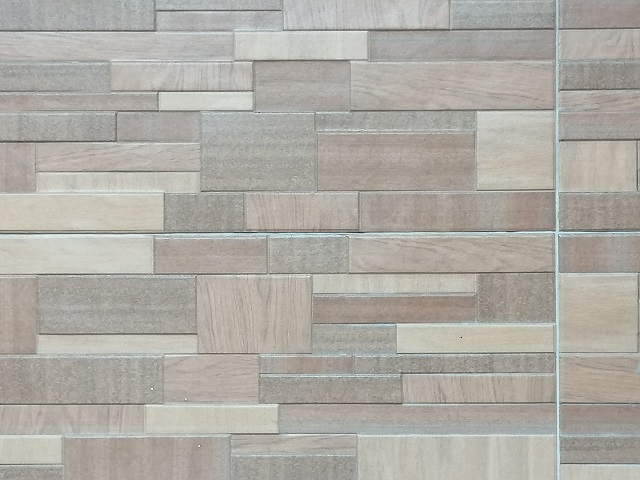wall: (2, 2, 640, 475)
